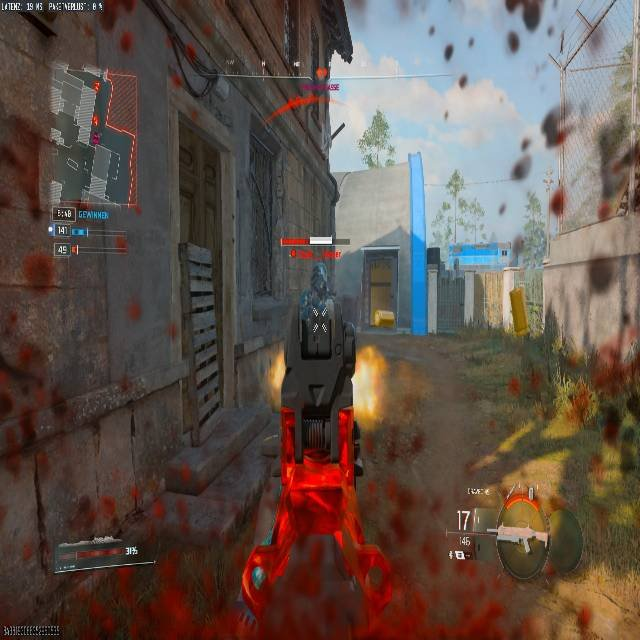player: (305, 267, 331, 324), (310, 266, 328, 288)
